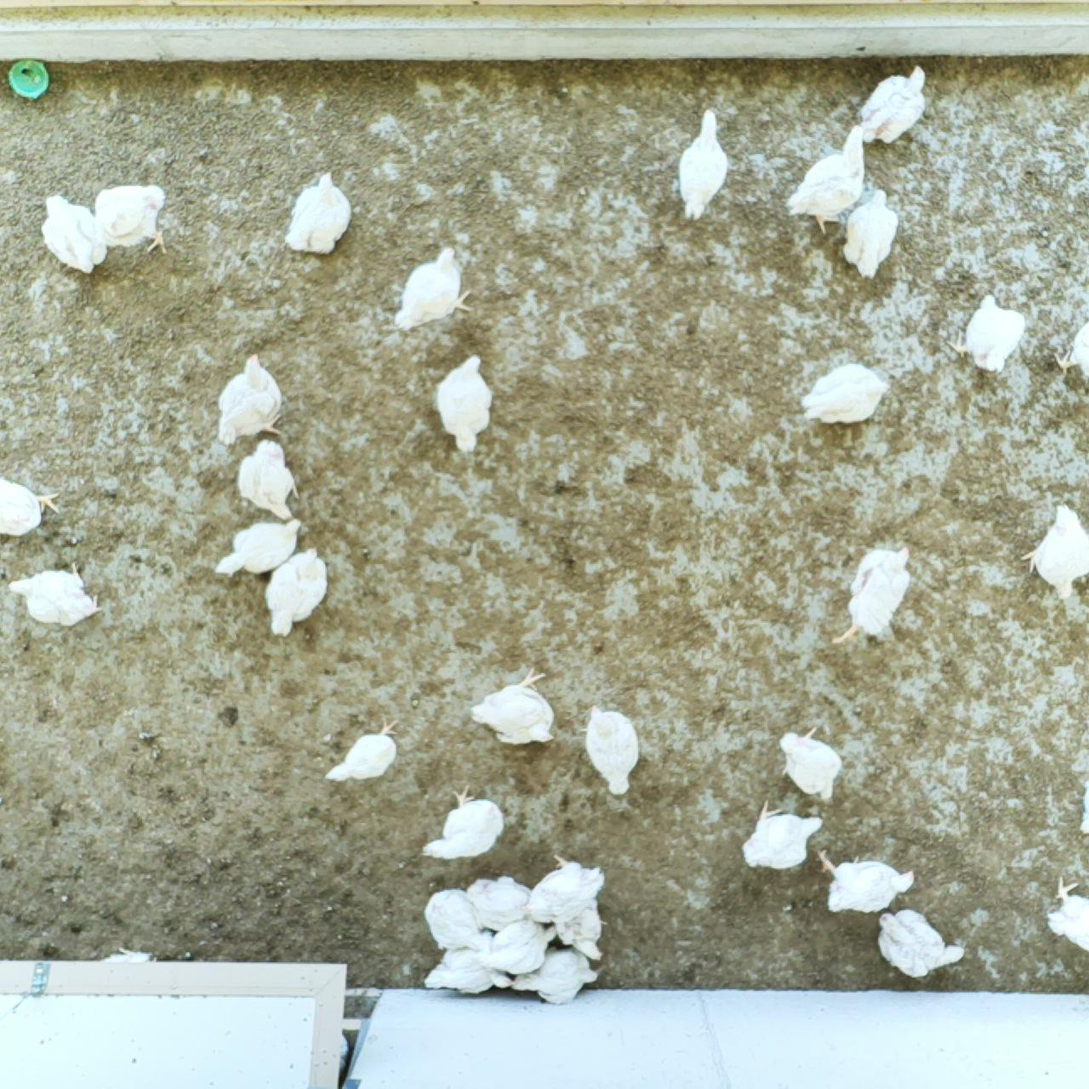chicken: (826, 542, 916, 653), (782, 124, 870, 236), (944, 287, 1032, 381), (466, 664, 563, 749), (418, 778, 510, 865), (391, 245, 478, 336), (811, 843, 917, 917), (214, 345, 290, 448), (671, 103, 733, 223), (430, 351, 500, 456), (1018, 497, 1089, 600), (737, 795, 828, 875), (8, 559, 106, 633), (872, 905, 967, 981), (278, 165, 355, 258), (797, 359, 895, 432), (261, 544, 331, 645), (520, 848, 607, 928), (575, 702, 646, 799), (207, 516, 306, 583), (234, 438, 305, 527), (91, 182, 173, 259), (322, 714, 405, 790), (839, 184, 903, 282), (855, 63, 930, 146), (775, 721, 846, 807), (37, 190, 106, 278), (509, 943, 602, 1008), (470, 914, 560, 979), (421, 945, 517, 998), (548, 898, 614, 969), (0, 471, 65, 542), (421, 885, 489, 951), (465, 874, 534, 934), (1041, 869, 1089, 955), (1049, 315, 1089, 378)
